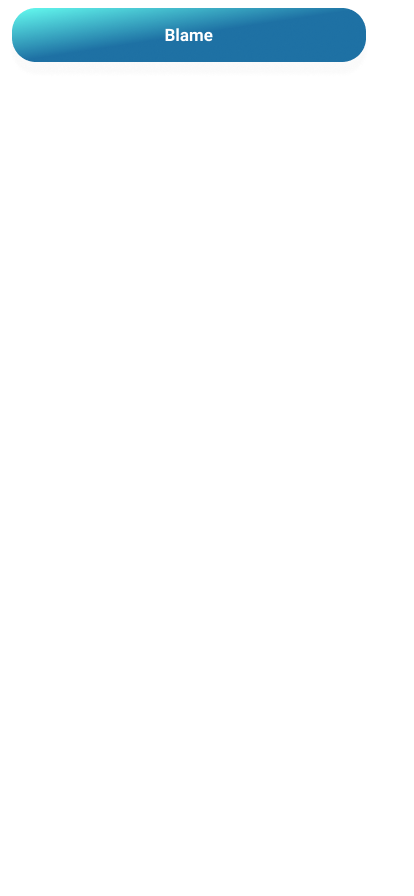buttons: (8, 8, 374, 78)
